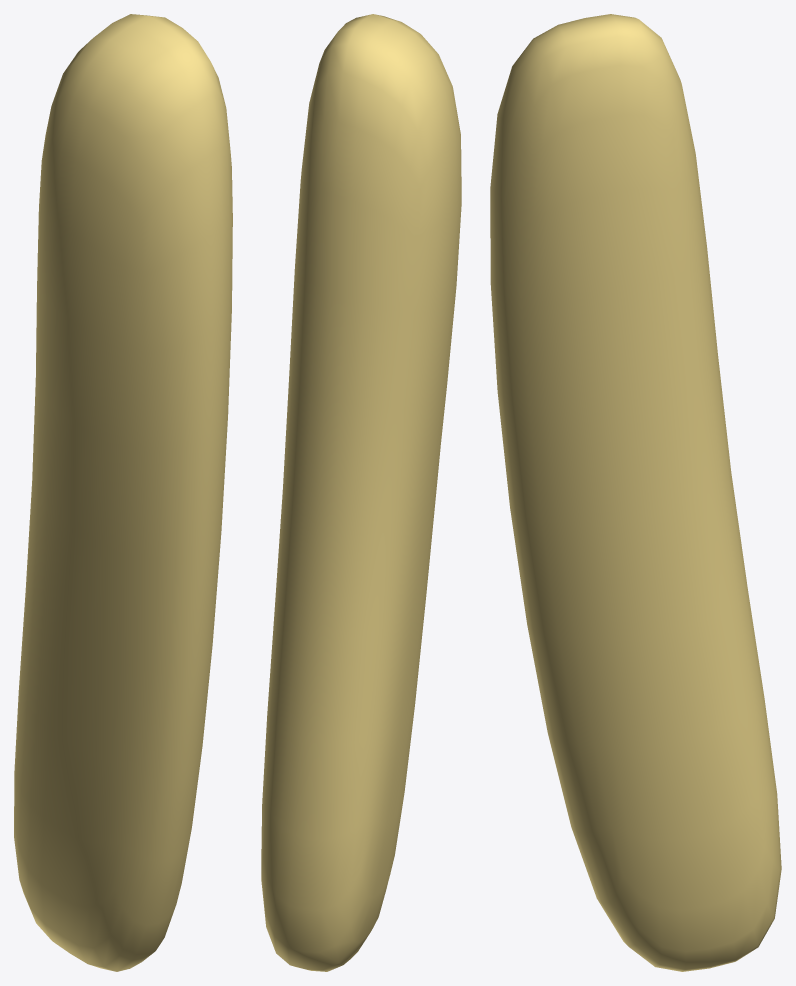
3 renders of one model, left to right at view 1: azimuth 30°, elevation 25°; view 2: azimuth 150°, elevation 25°; view 3: azimuth 270°, elevation 25°, orthographic. The views are drawn at different scales.
Parts seen in each view (by area): view 1: ZA_fd439599093f3511; view 2: ZA_fd439599093f3511; view 3: ZA_fd439599093f3511.
Boxes of the visible parts, left/top/right/bottom form: ZA_fd439599093f3511: left=14, top=14, right=232, bottom=971; ZA_fd439599093f3511: left=261, top=14, right=461, bottom=971; ZA_fd439599093f3511: left=490, top=14, right=781, bottom=971.
Size of the model in its own units: 0.00136 by 0.00823 by 0.0023.
